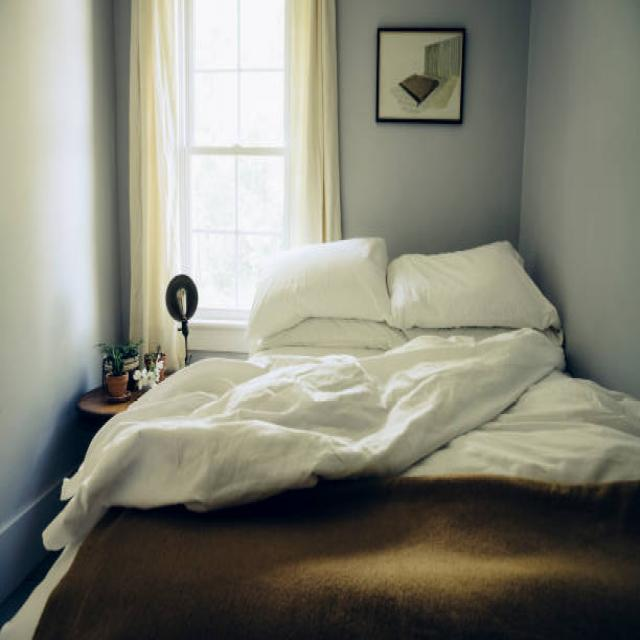bed: (66, 237, 640, 638)
